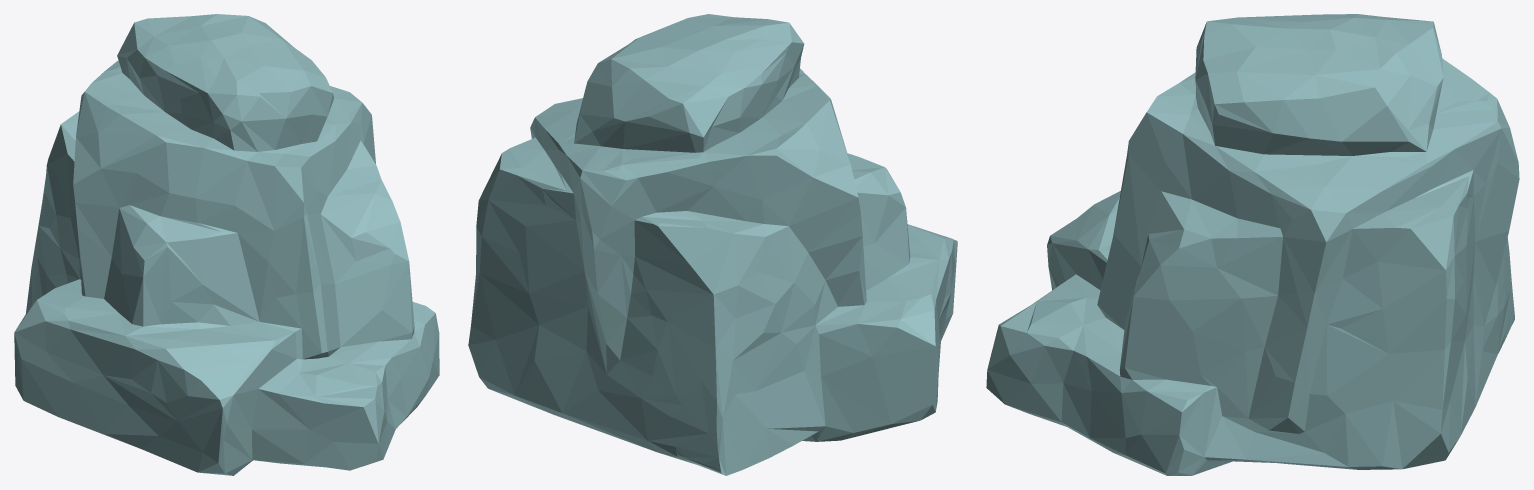
The model's file is RockFormations.fbx.
The picture shows the model from 3 angles, left to right: view 1: azimuth 30°, elevation 25°; view 2: azimuth 150°, elevation 25°; view 3: azimuth 270°, elevation 25°; orthographic projection. The views are drawn at different scales.
Parts seen in each view (by area): view 1: Hill.011; view 2: Hill.011; view 3: Hill.011.
Part boxes in pixels (x1,y1,x2,y2): Hill.011: (14,14,439,475); Hill.011: (468,14,957,475); Hill.011: (986,14,1519,475).
Bounding box in the file's own units: 305 × 259 × 335.
